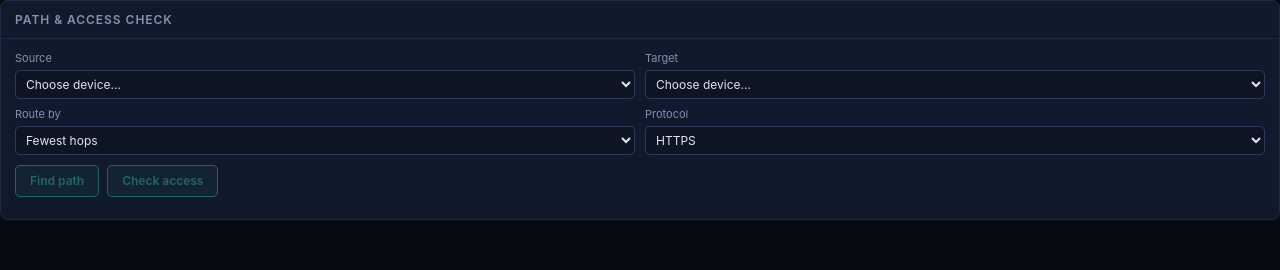
Test case: PathAccessPanel › reports when no path exists and clears the highlight
The image size is (1280, 270).
Select "Public Portal" in the dropdown labelled "Source" at (325, 85), box [15, 70, 635, 99]
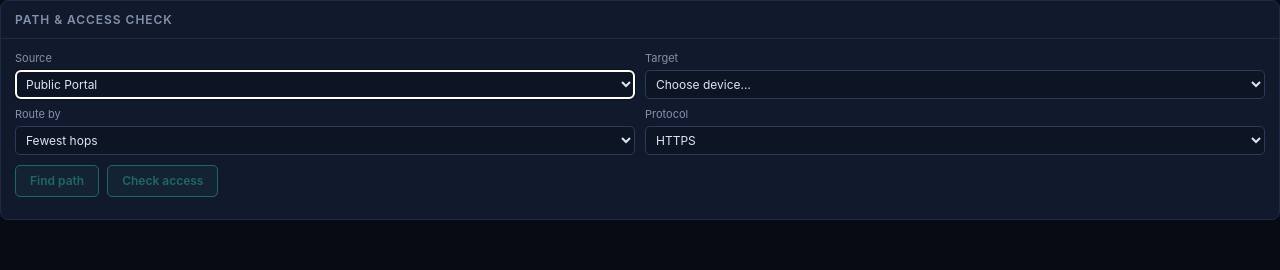
Select "Records Database" in the dropdown labelled "Target" at (955, 85), box [645, 70, 1265, 99]
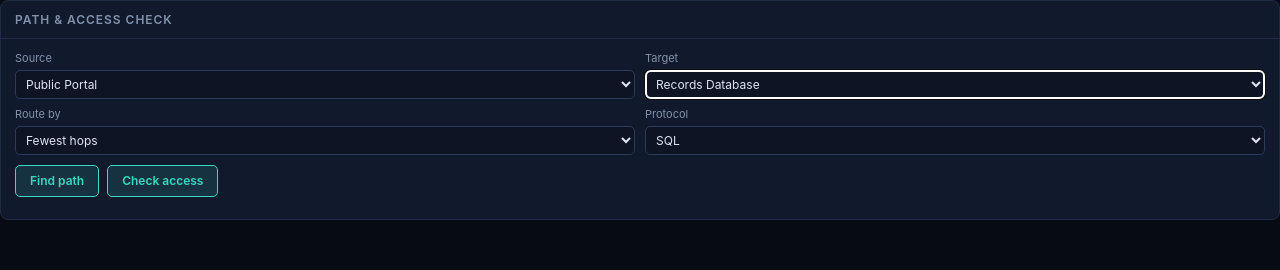
Click the button "Find path".
click(57, 181)  # box [15, 165, 99, 197]
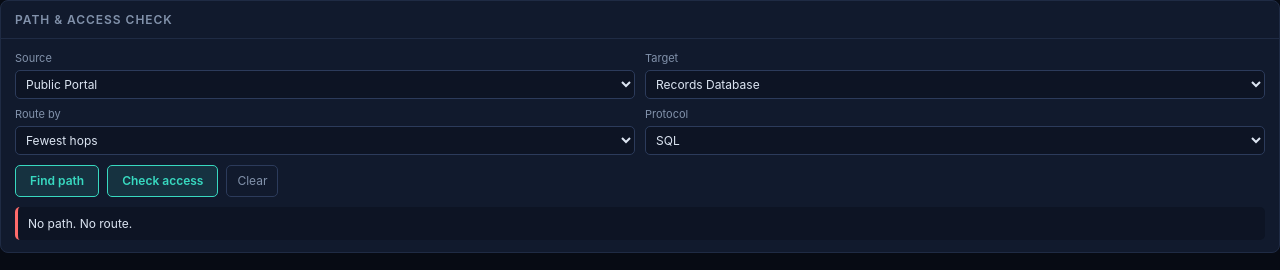
Check: the text "No path. No route." is shown, box [15, 207, 1265, 240]
